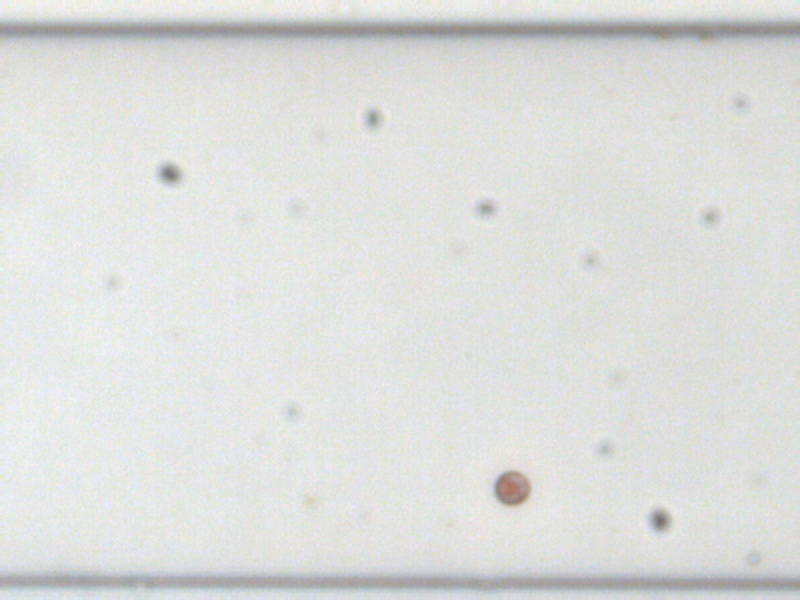Porphyridium: (491, 468, 531, 507)
